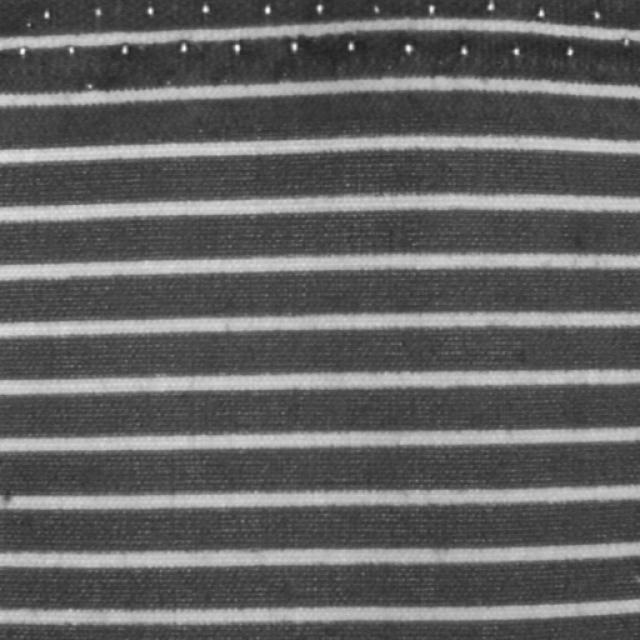Hole-Defect: (0, 0, 639, 96), (280, 75, 575, 94)
